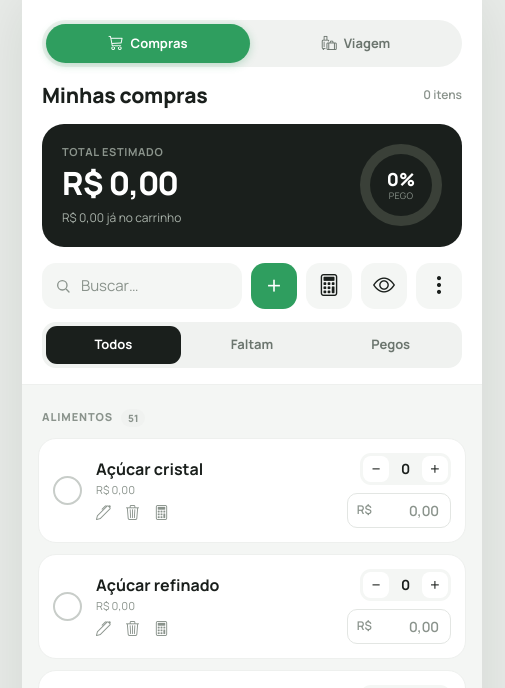
Scenario: filtros, busca e ocultar zerados
Type "acucar" into the search field named "Buscar item" at (154, 286), box 79,274 -> 229,298
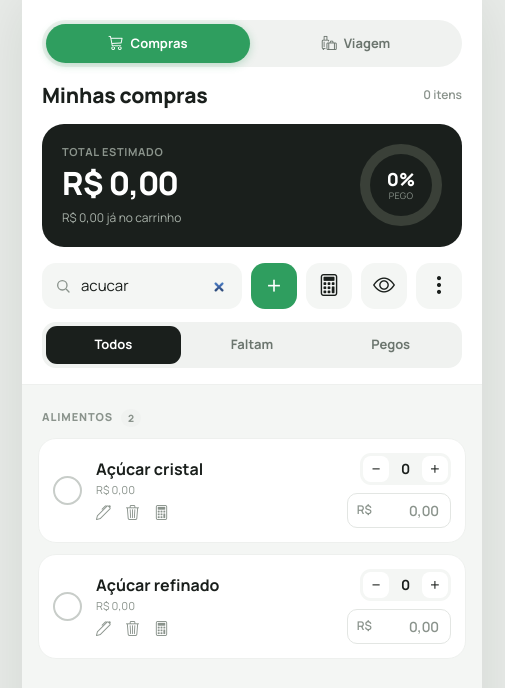
expect the text "Açúcar cristal" is shown: met, box 96,458 -> 203,480
Clear the search field named "Buscar item" at (154, 286), box 79,274 -> 229,298
(page scrolled)
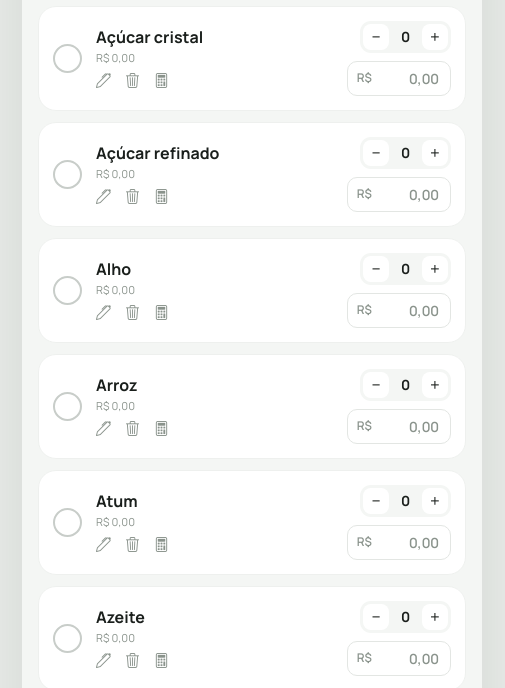
Click the button named "Aumentar Arroz" at (435, 385), box 422,372 -> 448,398
(page scrolled)
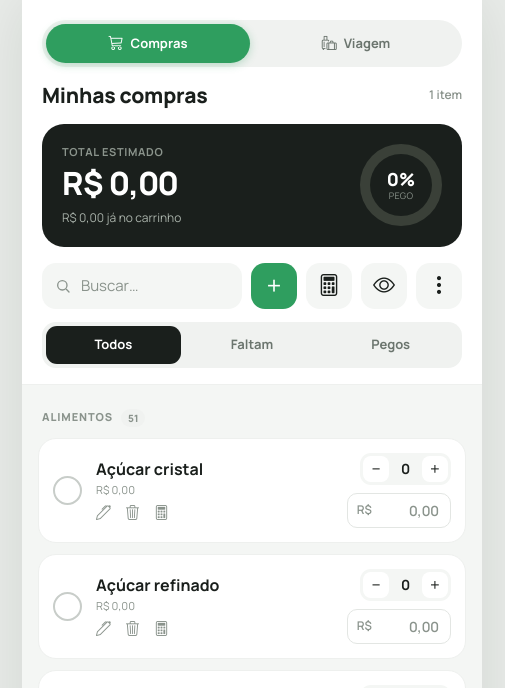
Click the button named "Ocultar itens sem quantidade" at (384, 286), box 361,263 -> 407,309
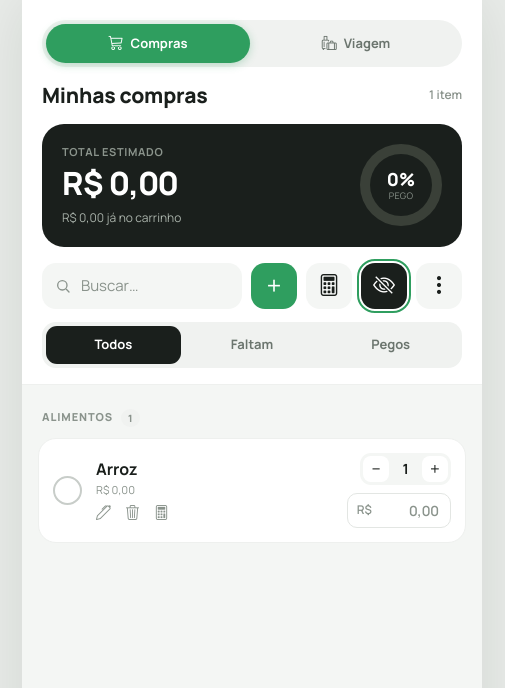
expect the text "Arroz" is shown: met, box 96,458 -> 138,480
Click the button "Pegos" at (391, 345), box 323,326 -> 458,364
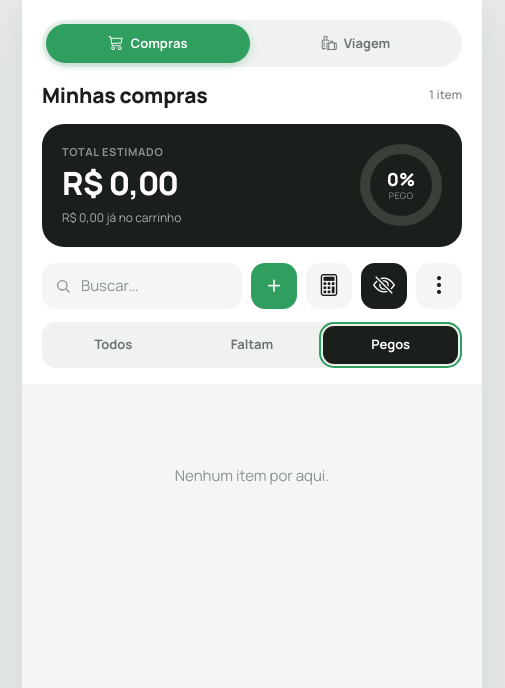
expect the text "Nenhum item por aqui." is shown: met, box 175,465 -> 329,486
